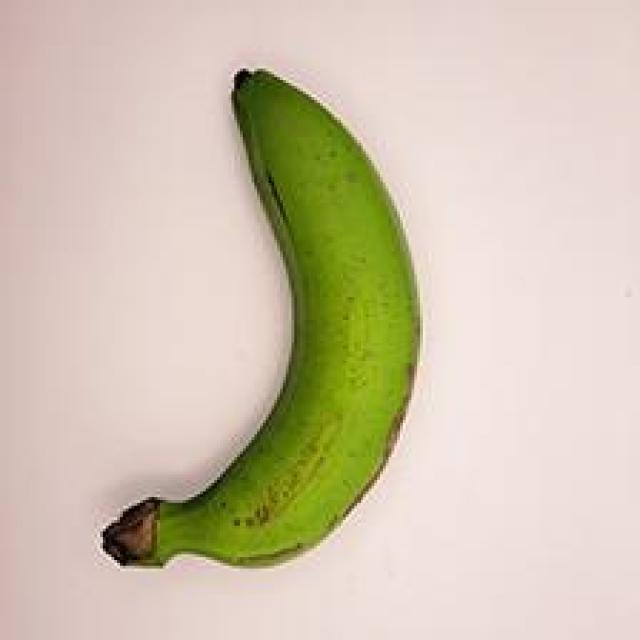Raw: (75, 60, 434, 583)
